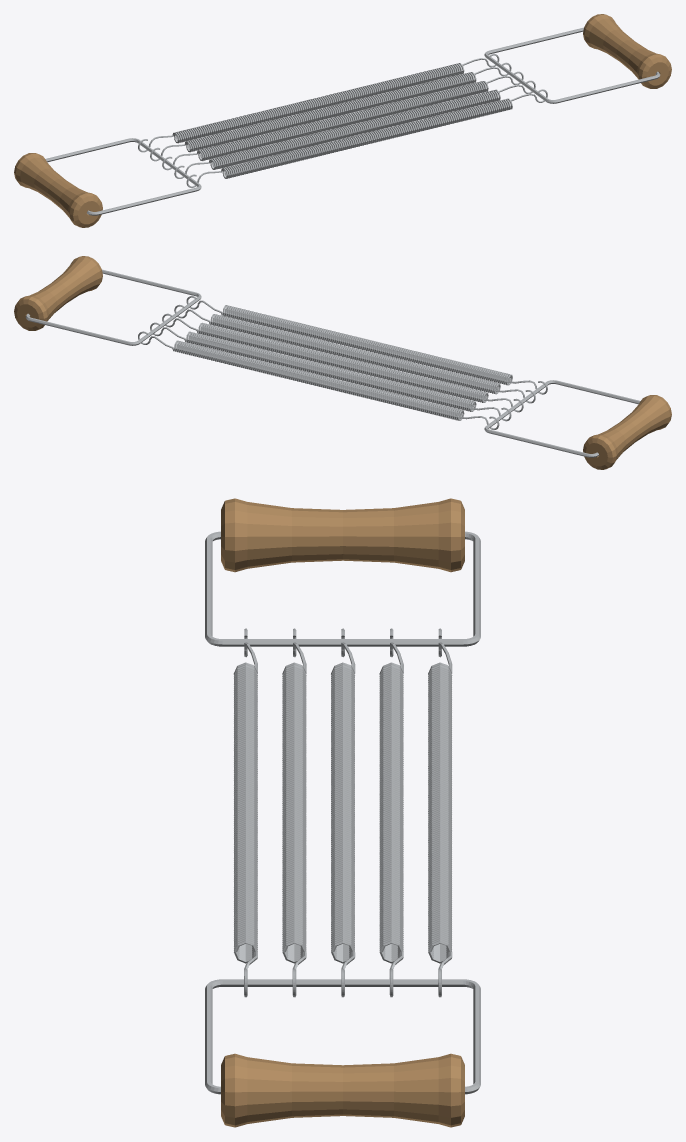
The model's file is NEW577_chest_expander_LOD1.glb.
3 renders of one model, top to bottom at view 1: azimuth 30°, elevation 25°; view 2: azimuth 150°, elevation 25°; view 3: azimuth 270°, elevation 25°, orthographic. The views are drawn at different scales.
Parts seen in each view (by area): view 1: Spring_4, Spring_2, Spring_3, Spring_5, Spring_1, Grip_-1, Grip_1, Frame_1, Frame_-1; view 2: Spring_1, Spring_4, Spring_5, Spring_2, Spring_3, Grip_-1, Grip_1, Frame_1, Frame_-1; view 3: Grip_-1, Grip_1, Spring_2, Spring_4, Spring_3, Spring_5, Spring_1, Frame_-1, Frame_1.
Part boxes in pixels (x1,y1,x2,y2): Spring_4: (150,62,511,161); Spring_2: (174,80,535,178); Spring_3: (162,71,523,170); Spring_5: (138,54,499,152); Spring_1: (186,89,547,187); Grip_-1: (14,153,102,227); Grip_1: (583,14,671,88); Frame_1: (484,27,660,103); Frame_-1: (45,138,201,215); Spring_1: (186,296,547,394); Spring_4: (150,322,511,421); Spring_5: (138,331,499,429); Spring_2: (174,304,535,403); Spring_3: (162,313,523,412); Grip_-1: (583,395,671,469); Grip_1: (14,256,102,330); Frame_1: (25,269,201,345); Frame_-1: (484,380,640,457); Grip_-1: (221,498,464,572); Grip_1: (221,1053,464,1127); Spring_2: (282,628,306,997); Spring_4: (379,628,403,997); Spring_3: (331,628,355,997); Spring_5: (428,628,452,997); Spring_1: (233,628,257,997); Frame_-1: (205,531,480,646); Frame_1: (205,979,480,1094).
Bounding box in the file's own units: 0.6 × 0.032 × 0.1193.
